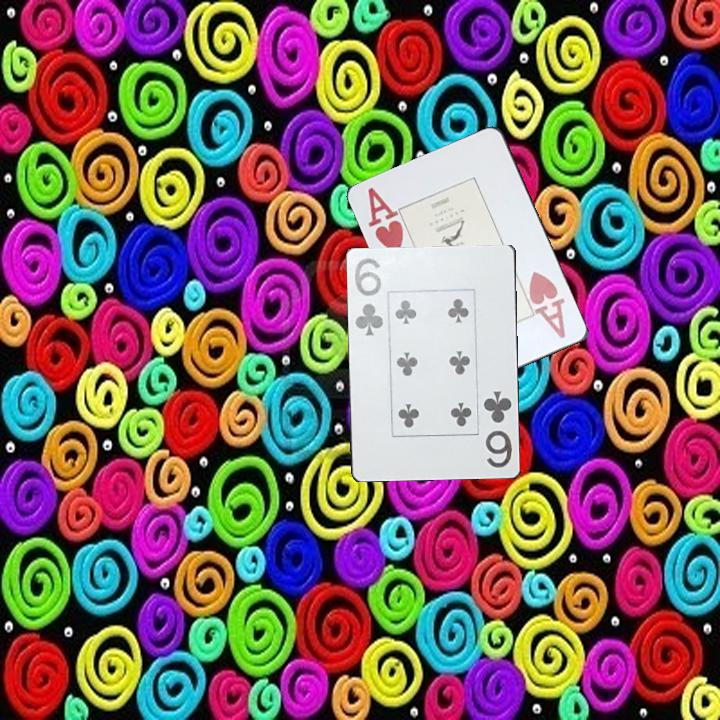6c: (351, 255, 387, 339), (480, 387, 515, 471)
Ah: (525, 267, 569, 341), (364, 184, 407, 256)
